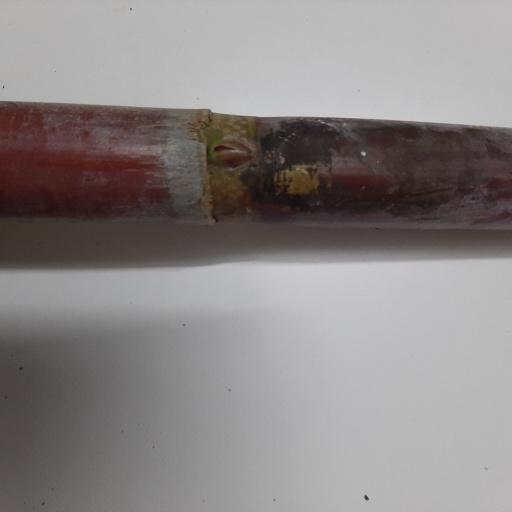Bud: (210, 138, 253, 167)
